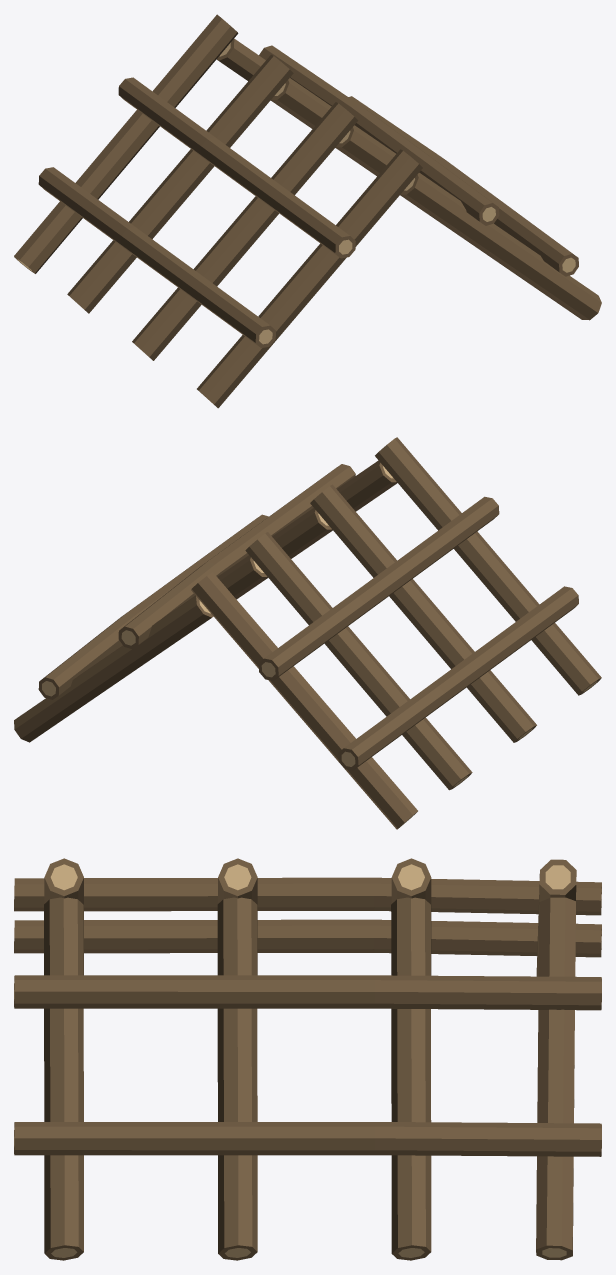
Rendered from rpgpp_ag_gate_balcony_03_roof_support_01.fbx.
3 views of the same model, one above another, from view 1: azimuth 30°, elevation 25°; view 2: azimuth 150°, elevation 25°; view 3: azimuth 270°, elevation 25° (orthographic). The views are drawn at different scales.
Visible parts, largest first — view 1: rpgpp_ag_gate_balcony_03_roof_support_01; view 2: rpgpp_ag_gate_balcony_03_roof_support_01; view 3: rpgpp_ag_gate_balcony_03_roof_support_01.
Part boxes in pixels (x1,y1,x2,y2): rpgpp_ag_gate_balcony_03_roof_support_01: (14, 14, 601, 408); rpgpp_ag_gate_balcony_03_roof_support_01: (14, 437, 601, 829); rpgpp_ag_gate_balcony_03_roof_support_01: (14, 858, 601, 1260).
Bounding box in the file's own units: 5 × 2.54 × 4.74.
